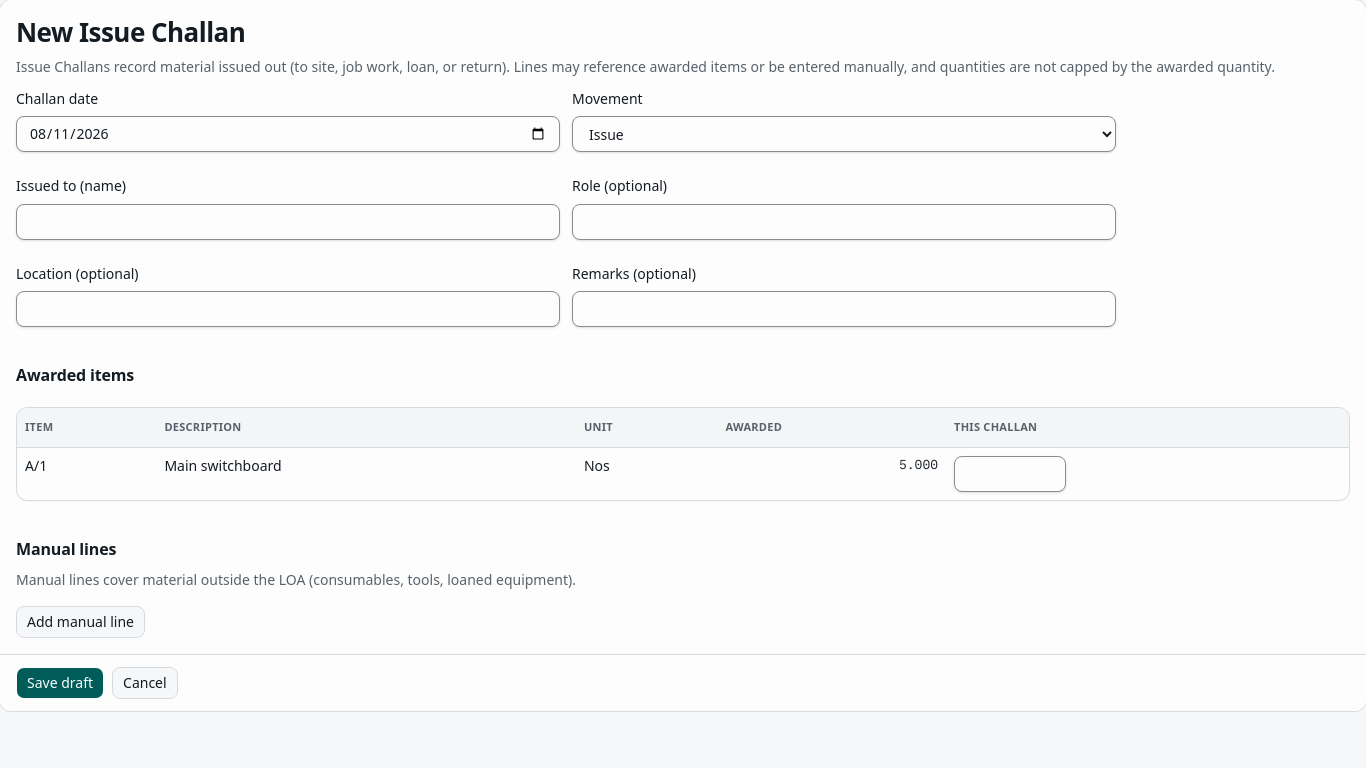
IssueChallanEditor › binds header validation messages and focuses fields in reading order
This screenshot has width=1366, height=768.
Expected: the text "Main switchboard" is shown, [156,448,576,500]
Clear the date field labelled "Challan date" at coordinates (288, 134), box [16,116,560,152]
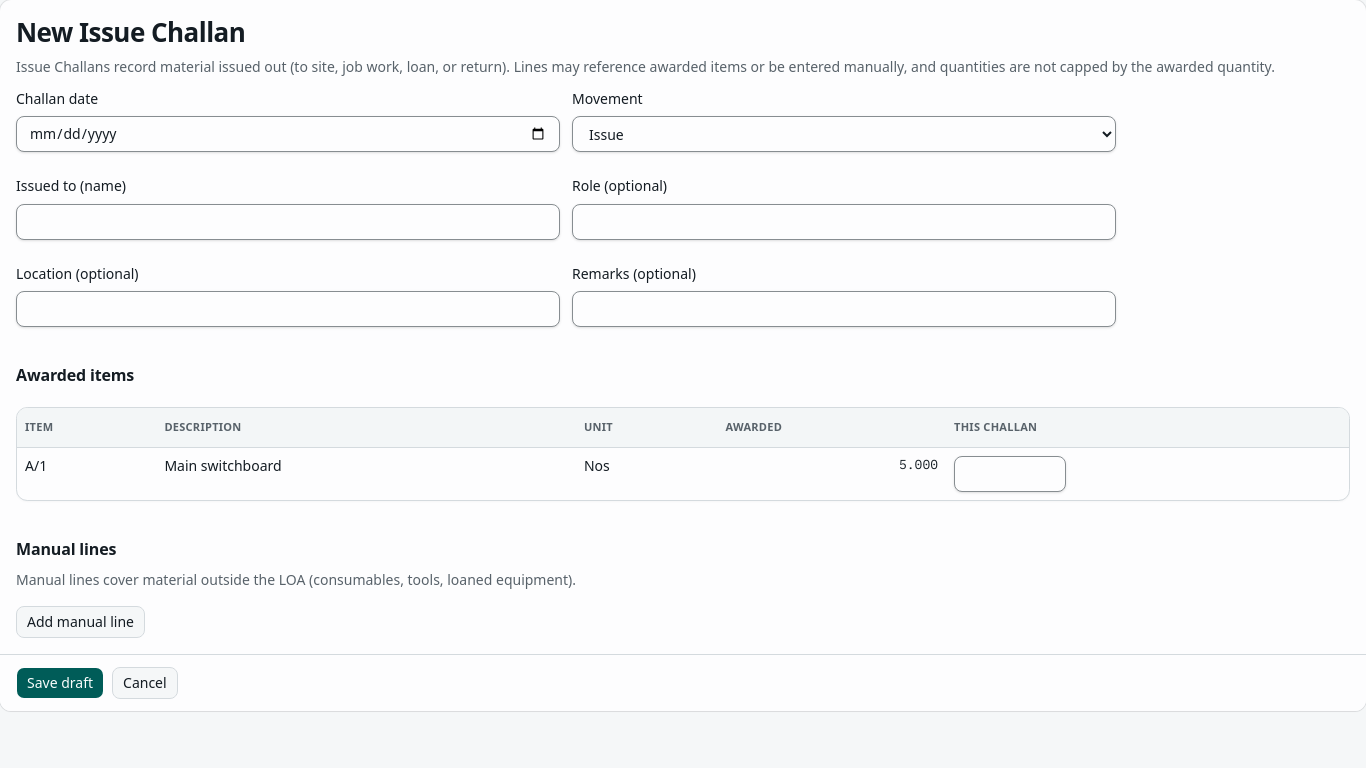
Click the button "Save draft" at coordinates (60, 683), box [16,667,104,699]
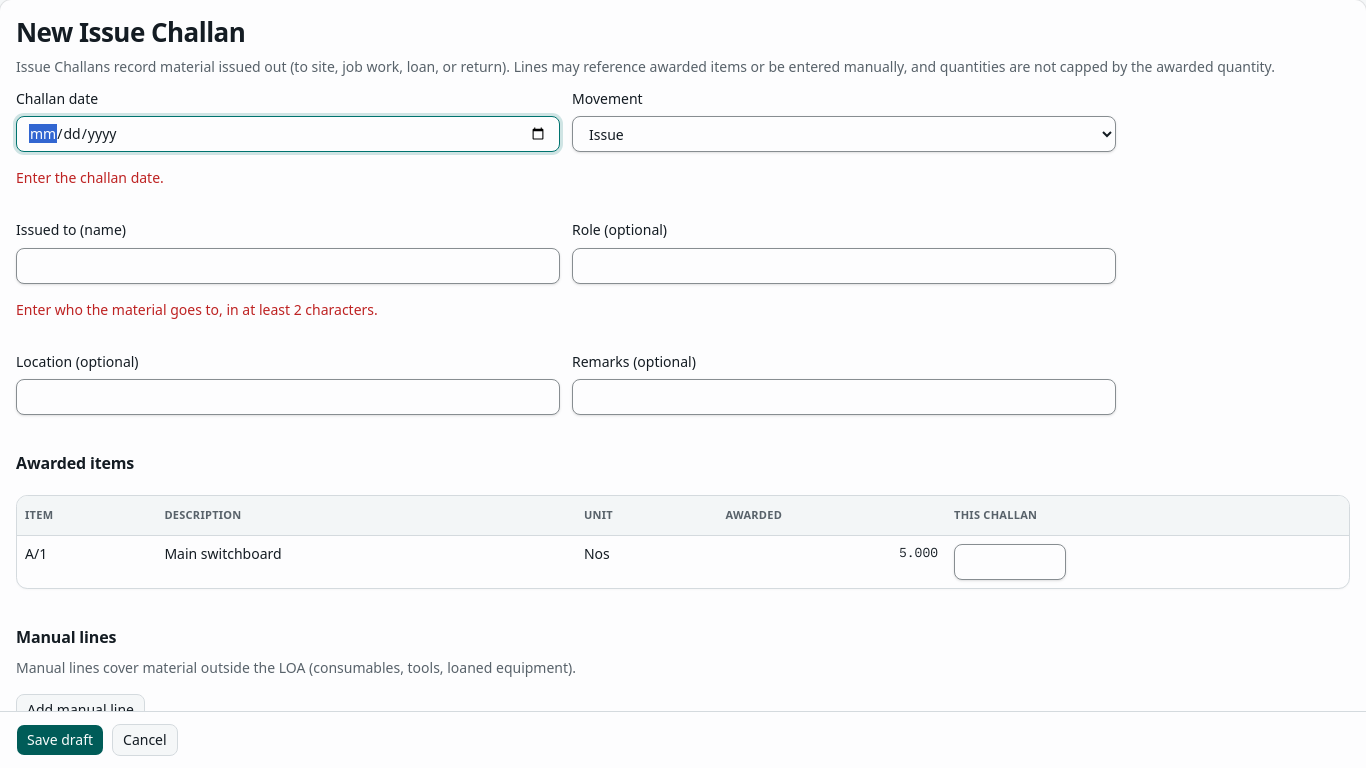
Now the message reads "Enter a challan date before saving.", box [16,734,243,753]
Type "2026-08-11" into the date field labelled "Challan date" at coordinates (288, 134), box [16,116,560,152]
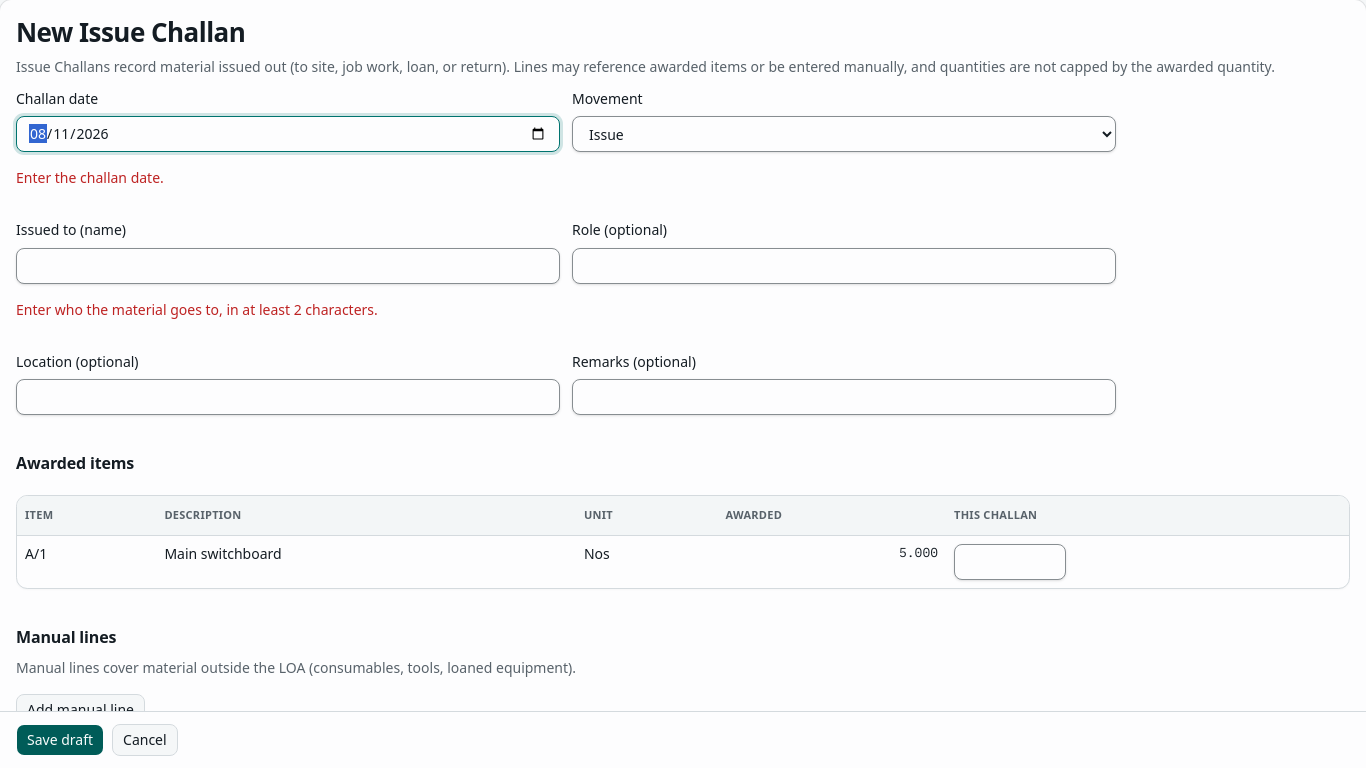
Click the button "Save draft" at coordinates (60, 740), box [16,724,104,756]
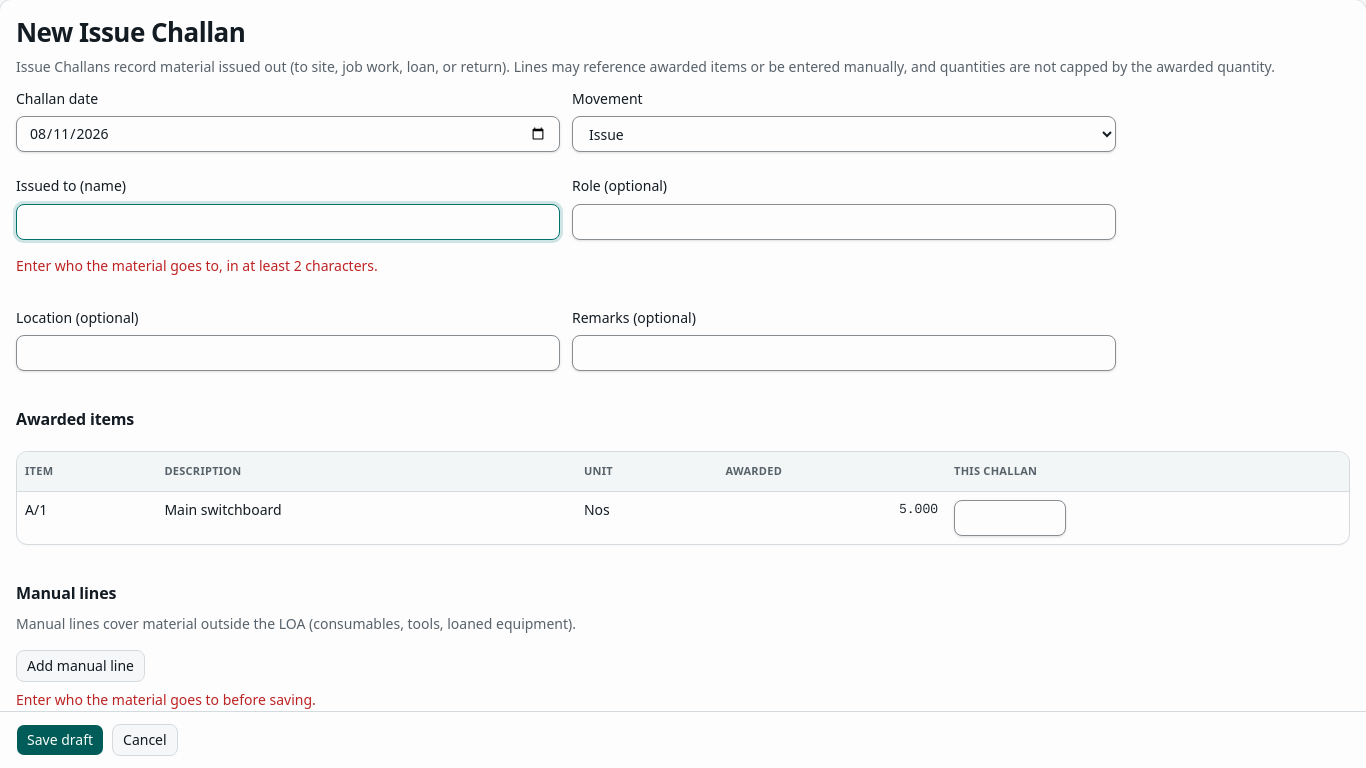
Now the message reads "Enter who the material goes to before saving.", box [16,690,316,709]
